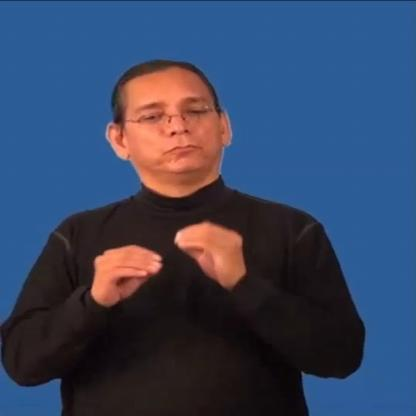Fix: (88, 202, 244, 321)
